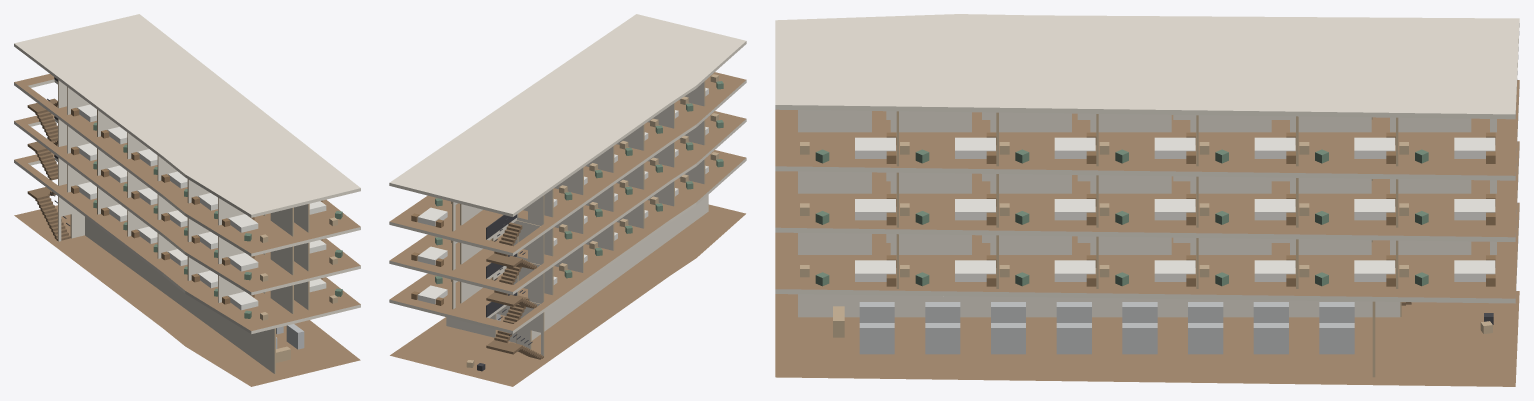
Rendered from interior.glb.
The picture shows the model from 3 angles, left to right: view 1: azimuth 30°, elevation 25°; view 2: azimuth 150°, elevation 25°; view 3: azimuth 270°, elevation 25°; orthographic projection. The views are drawn at different scales.
Parts seen in each view (by area): view 1: slabs, partitions, coarse-s1, coarse-s3, coarse-s2, stair, coarse-s0; view 2: slabs, partitions, stair, coarse-s1, coarse-s2, coarse-s3; view 3: slabs, partitions, coarse-s0, coarse-s1, coarse-s3, coarse-s2.
Boxes of the visible parts, box(x1,y1,x2,y2) form: slabs: box(14, 14, 360, 386); partitions: box(58, 80, 309, 373); coarse-s1: box(71, 182, 342, 320); coarse-s3: box(71, 104, 342, 242); coarse-s2: box(71, 143, 342, 281); stair: box(27, 77, 70, 240); coarse-s0: box(276, 324, 304, 362); slabs: box(389, 14, 746, 386); partitions: box(446, 81, 708, 357); stair: box(486, 214, 543, 359); coarse-s1: box(411, 152, 723, 305); coarse-s2: box(411, 113, 723, 266); coarse-s3: box(411, 74, 723, 227); slabs: box(775, 14, 1519, 386); partitions: box(798, 110, 1496, 377); coarse-s0: box(833, 302, 1493, 354); coarse-s1: box(800, 255, 1495, 286); coarse-s3: box(800, 132, 1495, 163); coarse-s2: box(800, 194, 1495, 225).
Bounding box in the file's own units: 11.58 × 14.67 × 36.27.
